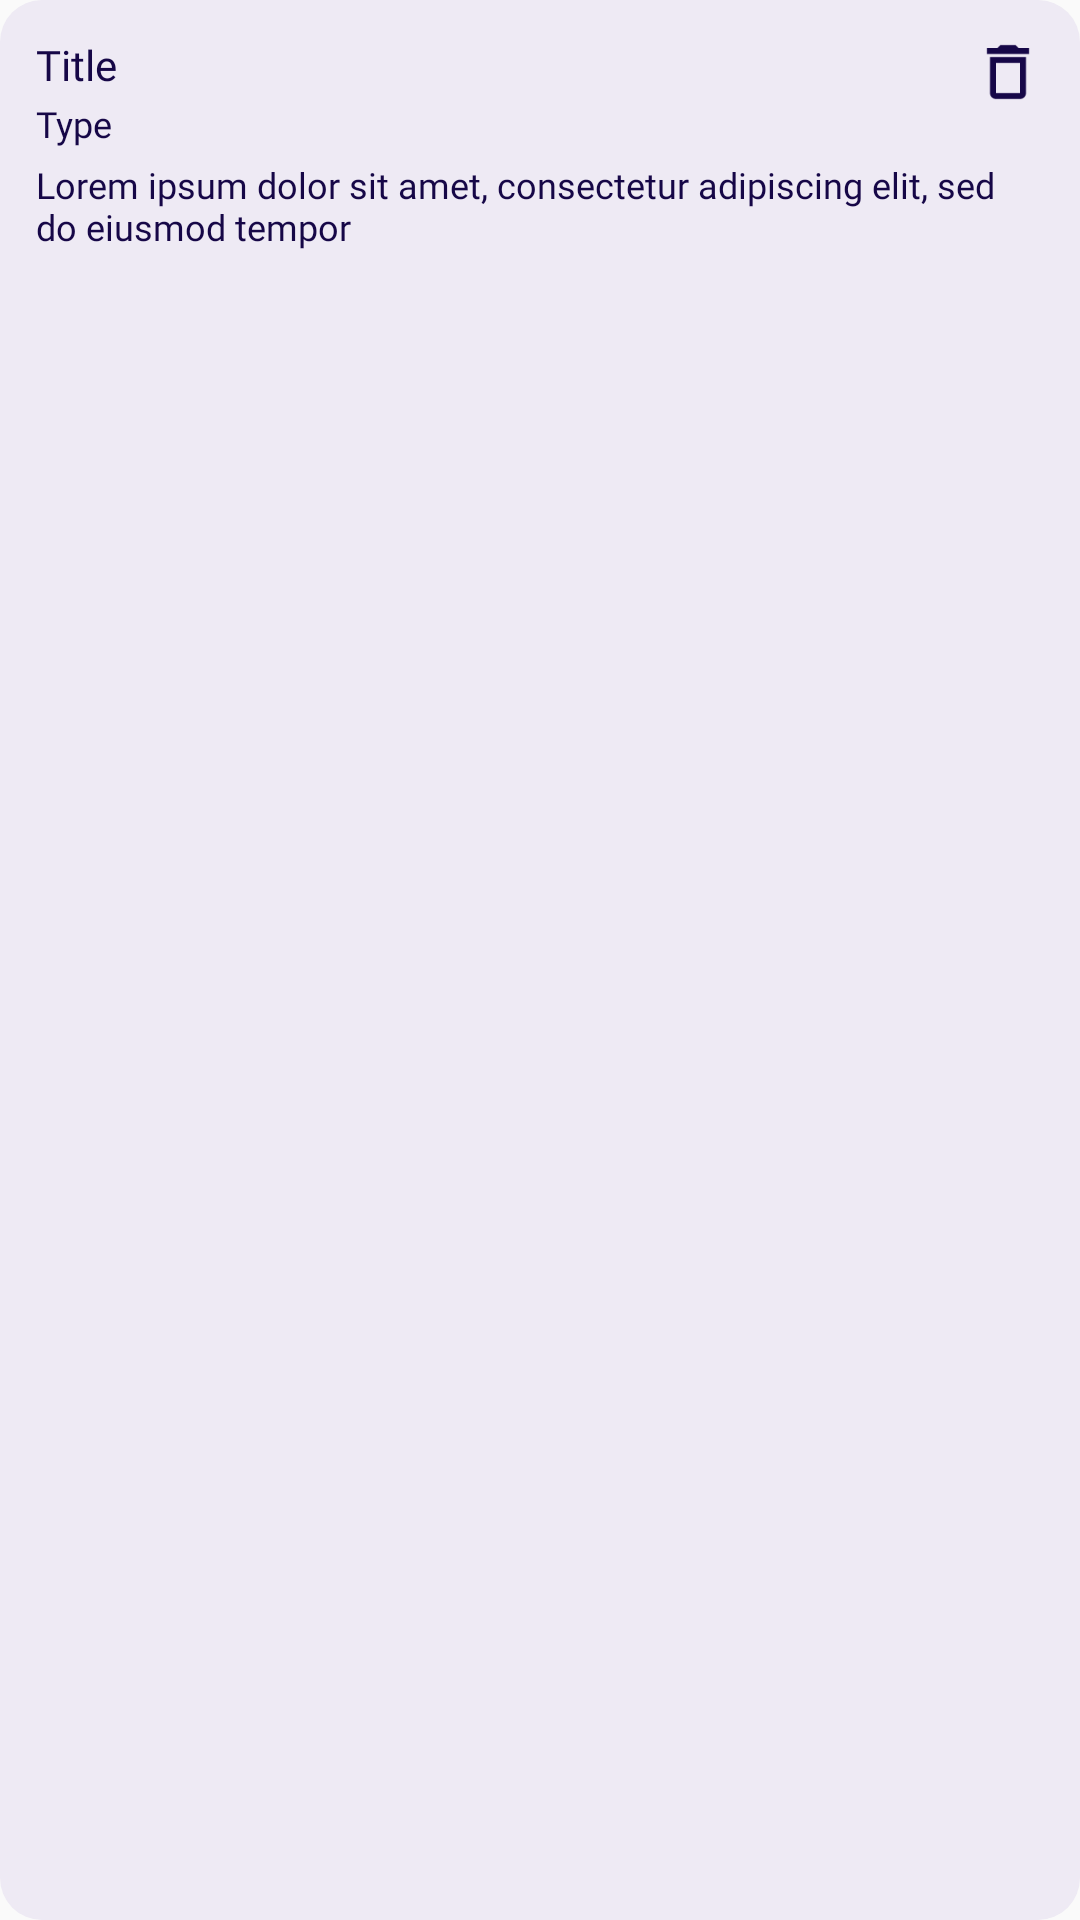

Point at icon controls on the screen. Image size 1080 × 1920, points as (x,y).
Delete resource: (1008,72)
